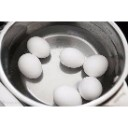begg: (18, 52, 42, 78), (56, 87, 81, 106), (61, 48, 84, 67)
